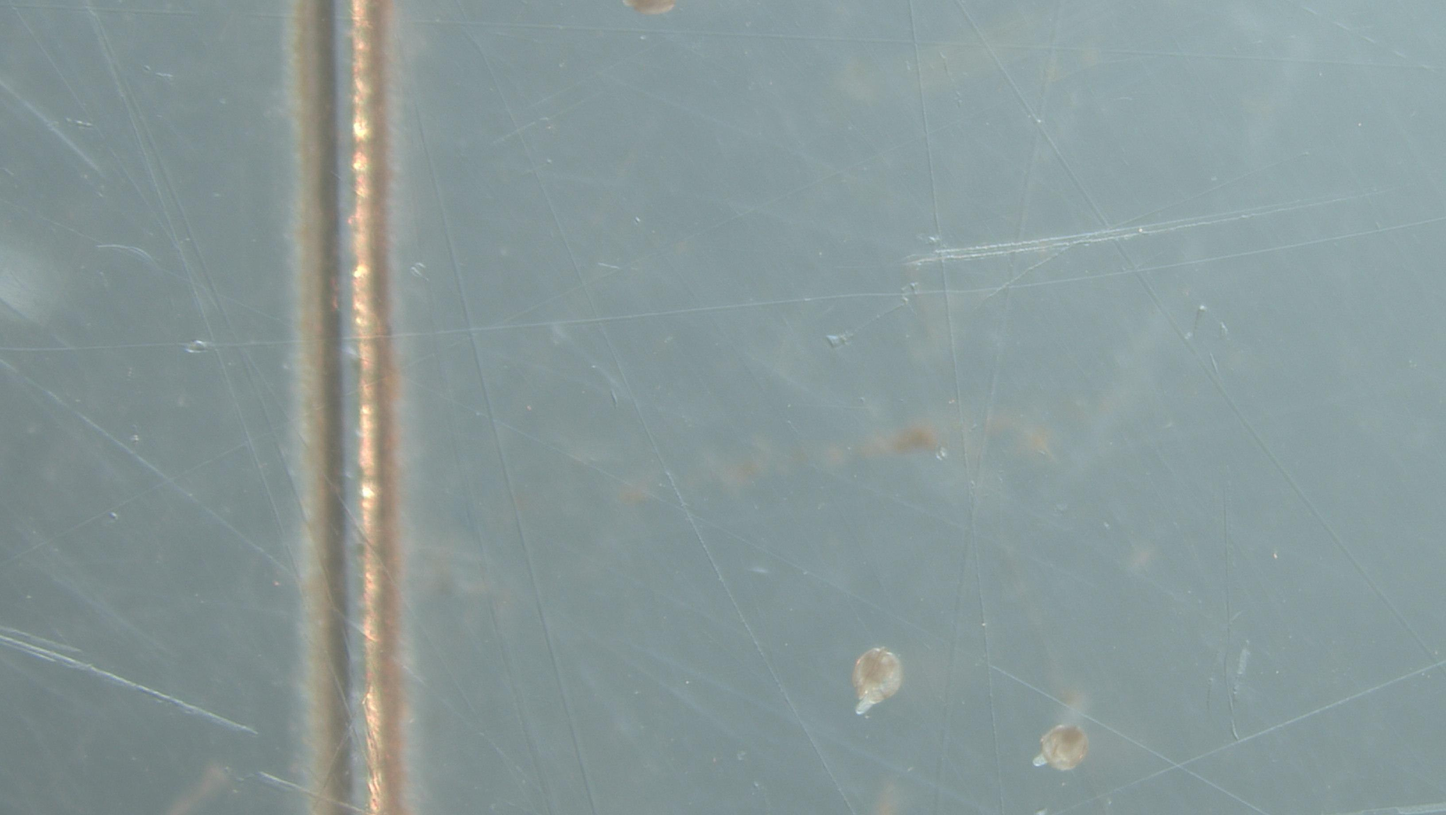live: (852, 648, 902, 715), (1033, 726, 1088, 771)
